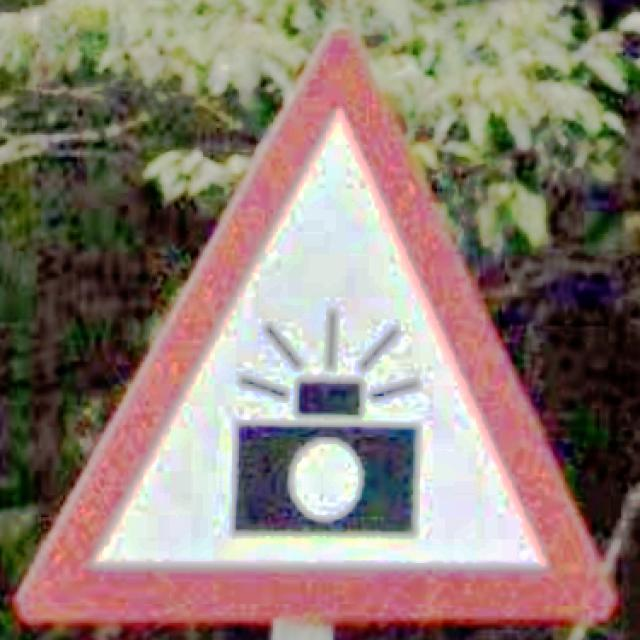speedcamera: (16, 30, 614, 624)
